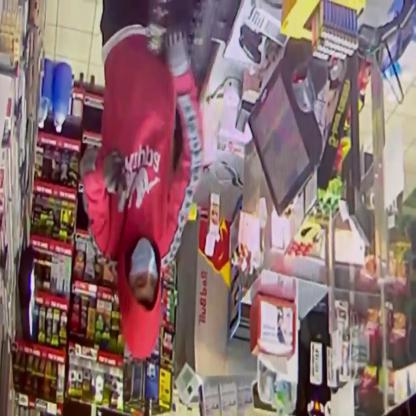long weapon: (111, 157, 136, 217)
